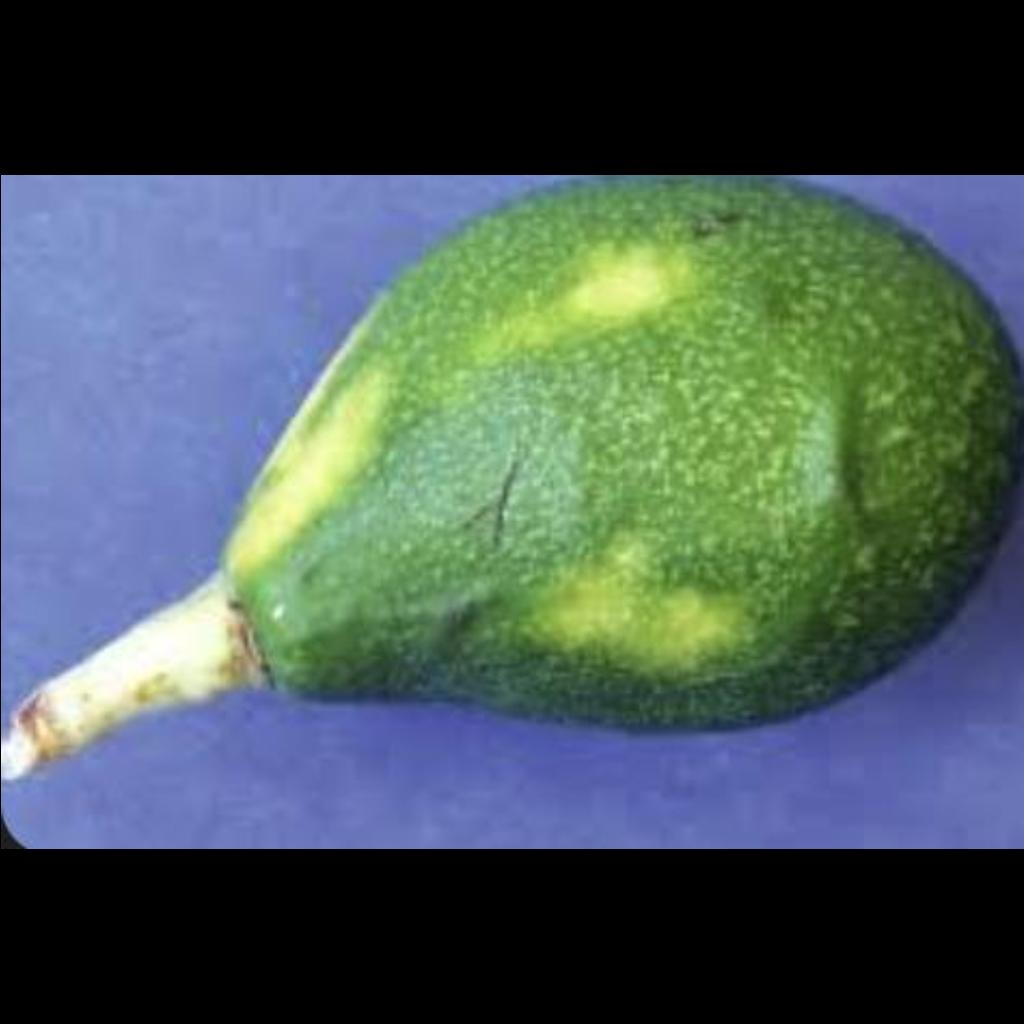sunblotch: (190, 206, 1014, 736)
